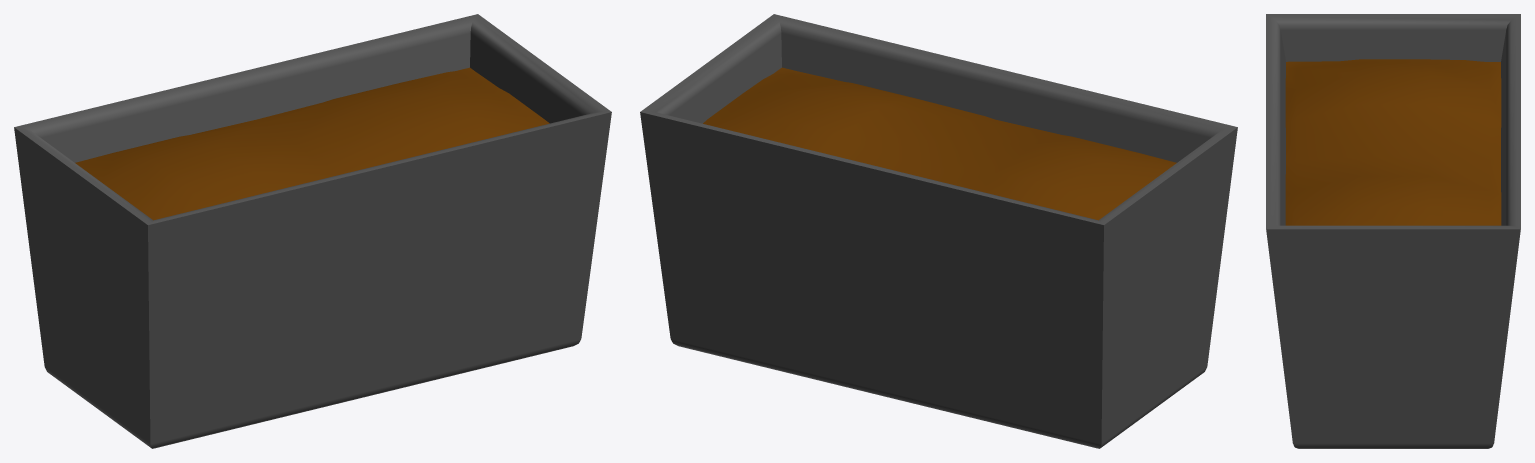
File: MOD_FlowerPot.fbx
3 views of the same model, side by side, from view 1: azimuth 30°, elevation 25°; view 2: azimuth 150°, elevation 25°; view 3: azimuth 270°, elevation 25° (orthographic). The views are drawn at different scales.
Visible parts, largest first — view 1: FlowerPot; view 2: FlowerPot; view 3: FlowerPot.
Part boxes in pixels (x1,y1,x2,y2): FlowerPot: (14,14,611,448); FlowerPot: (640,14,1237,448); FlowerPot: (1266,14,1520,448).
Bounding box in the file's own units: 100 × 50 × 50.
